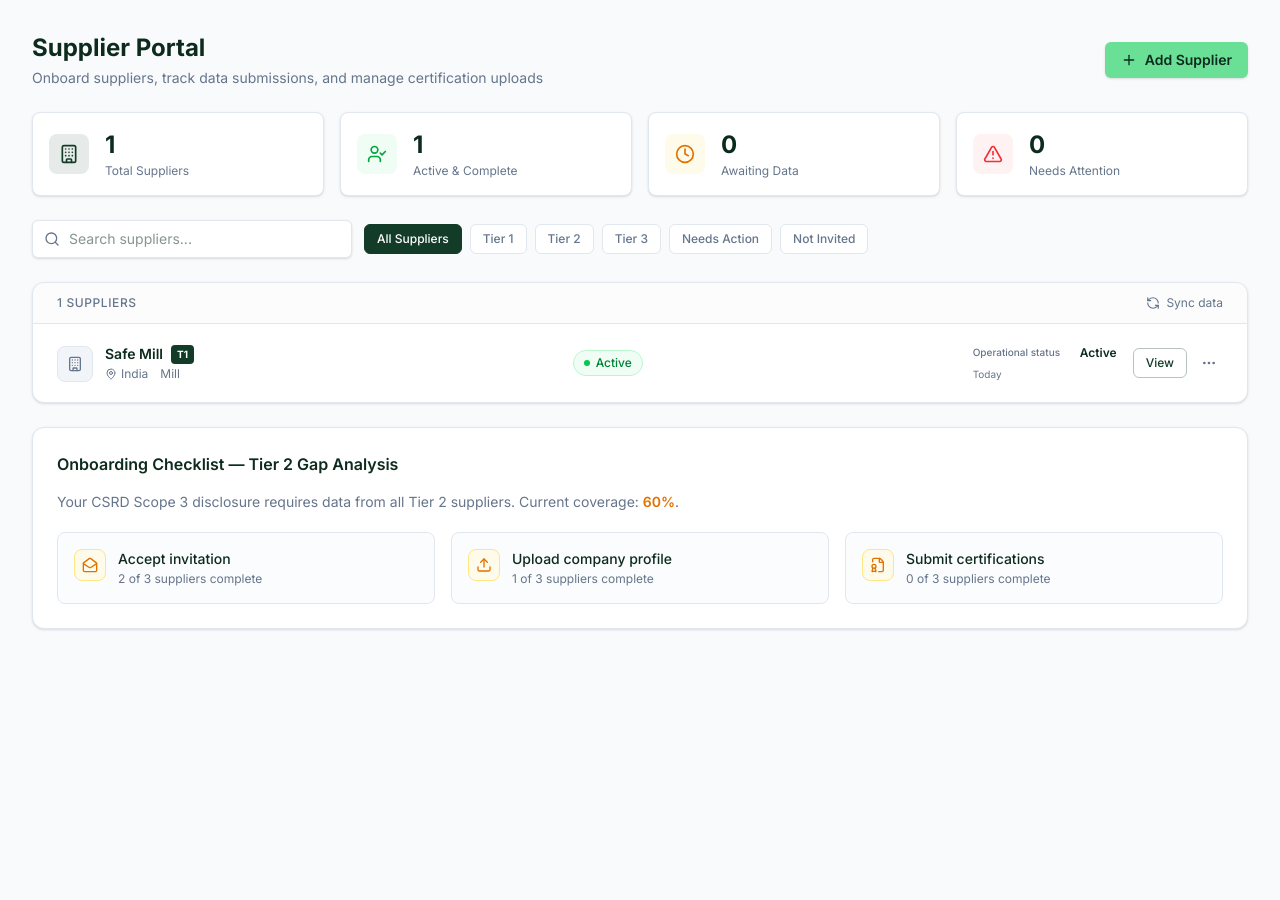
Test: Supplier Portal access administration › hides security mutations from a manager
Click the button named "Manage portal access for Safe Mill" at {"x": 1209, "y": 363}, box [1195, 349, 1223, 377]
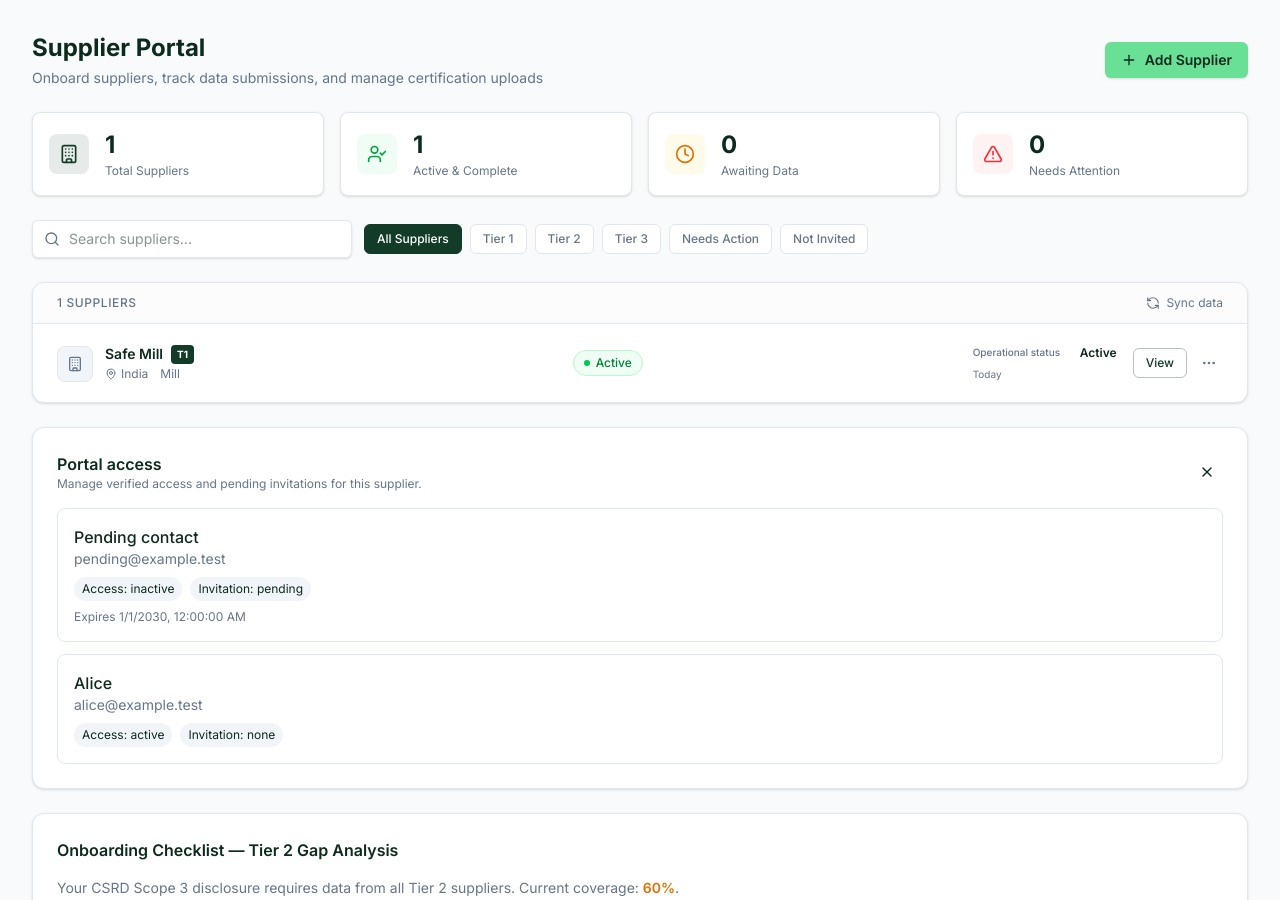
Expected: the text "pending@example.test" is shown, [74, 550, 226, 567]
